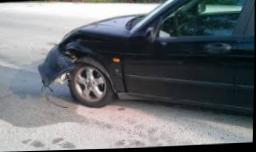Bumper: (37, 45, 80, 96)
Door: (118, 39, 138, 101)
Fender: (60, 29, 123, 77)
